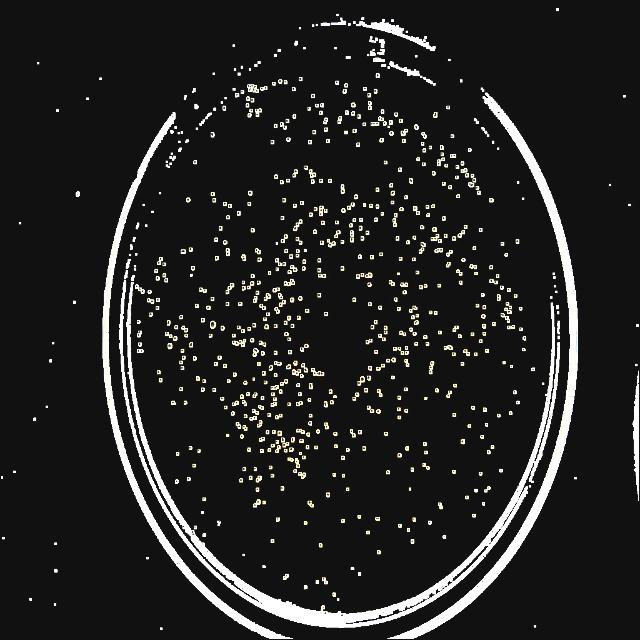colony: (206, 130, 218, 140), (274, 516, 288, 524), (209, 318, 219, 329), (270, 536, 276, 548), (154, 296, 162, 304), (166, 342, 174, 350), (184, 476, 192, 484), (207, 332, 215, 340), (198, 541, 208, 547), (213, 254, 220, 262), (185, 196, 191, 204), (247, 189, 253, 197), (224, 215, 232, 221), (180, 248, 188, 254), (140, 288, 146, 296), (154, 304, 160, 312), (180, 348, 186, 356), (165, 319, 171, 327), (188, 341, 194, 349), (192, 354, 198, 362), (200, 386, 206, 394), (196, 448, 202, 456), (175, 450, 181, 458), (200, 496, 208, 502), (200, 532, 208, 538), (261, 500, 269, 506), (278, 486, 286, 492), (253, 466, 259, 474), (255, 486, 261, 494), (260, 436, 268, 442), (307, 420, 313, 428), (323, 400, 329, 408), (308, 383, 314, 391), (256, 257, 264, 263), (390, 356, 396, 364), (472, 488, 480, 494), (460, 438, 466, 446), (428, 370, 436, 376), (412, 304, 420, 310), (285, 136, 291, 144), (467, 146, 473, 154), (438, 144, 446, 150), (246, 84, 252, 92), (433, 111, 439, 119), (192, 160, 198, 167), (170, 399, 176, 406), (178, 386, 185, 392), (277, 429, 283, 436), (250, 228, 256, 235), (419, 241, 426, 247), (408, 178, 414, 185), (340, 208, 346, 215), (460, 160, 466, 167), (218, 225, 224, 231), (222, 239, 228, 245), (225, 247, 231, 253), (225, 252, 231, 258), (188, 246, 194, 252), (158, 256, 164, 262), (162, 261, 168, 267), (164, 278, 170, 284), (146, 289, 152, 295), (135, 319, 141, 325), (136, 333, 142, 339), (140, 349, 146, 355), (172, 336, 178, 342), (222, 363, 228, 369), (201, 378, 207, 384), (218, 396, 224, 402), (188, 445, 194, 451), (174, 478, 180, 484), (302, 520, 308, 526), (314, 580, 320, 586), (321, 602, 327, 608), (318, 542, 324, 548), (325, 492, 331, 498), (255, 499, 261, 505), (239, 478, 245, 484), (242, 466, 248, 472), (256, 475, 262, 481), (259, 449, 265, 455), (246, 447, 252, 453), (258, 438, 264, 444), (270, 442, 276, 448), (290, 437, 296, 443), (298, 438, 304, 444), (306, 432, 312, 438), (226, 378, 232, 384), (242, 380, 248, 386), (273, 372, 279, 378), (268, 365, 274, 371), (220, 325, 226, 331), (224, 290, 230, 296), (228, 282, 234, 288), (264, 324, 270, 330), (286, 315, 292, 321), (296, 315, 302, 321), (304, 308, 310, 314), (286, 364, 292, 370), (292, 360, 298, 366), (266, 292, 272, 298), (284, 248, 290, 254), (292, 203, 298, 209), (292, 226, 298, 232), (280, 238, 286, 244), (298, 240, 304, 246), (334, 220, 340, 226), (348, 222, 354, 228), (367, 282, 373, 288), (398, 256, 404, 262), (396, 306, 402, 312), (377, 305, 383, 311), (360, 376, 366, 382), (390, 374, 396, 380), (383, 431, 389, 437), (356, 514, 362, 520), (365, 530, 371, 536), (410, 538, 416, 544), (406, 528, 412, 534), (397, 522, 403, 528), (411, 517, 417, 523), (498, 468, 504, 474), (404, 350, 410, 356), (448, 345, 454, 351), (484, 348, 490, 354), (521, 347, 527, 353), (530, 366, 536, 372), (518, 326, 524, 332), (454, 324, 460, 330), (500, 312, 506, 318), (518, 306, 524, 312), (480, 292, 486, 298), (512, 293, 518, 299), (488, 278, 494, 284), (488, 264, 494, 270), (458, 280, 464, 286), (413, 320, 419, 326), (468, 264, 474, 270), (460, 257, 466, 263), (446, 260, 452, 266), (472, 245, 478, 251), (514, 239, 520, 245), (468, 182, 474, 188), (454, 174, 460, 180), (441, 216, 447, 222), (431, 226, 437, 232), (420, 246, 426, 252), (412, 206, 418, 212), (399, 206, 405, 212), (392, 222, 398, 228), (390, 190, 396, 196), (368, 203, 374, 209), (362, 202, 368, 208), (374, 187, 380, 193), (388, 183, 394, 189), (350, 202, 356, 208), (307, 139, 313, 145), (343, 129, 349, 135), (355, 141, 361, 147), (361, 121, 367, 127), (379, 137, 385, 143), (388, 131, 394, 137), (397, 167, 403, 173), (450, 133, 456, 139), (234, 92, 240, 98), (246, 112, 252, 118), (291, 87, 297, 93), (298, 76, 304, 82), (310, 93, 316, 99), (306, 106, 312, 112), (318, 110, 324, 116), (322, 120, 328, 126), (344, 110, 350, 116), (350, 111, 356, 117), (388, 119, 394, 125), (398, 118, 404, 124), (400, 131, 406, 137), (413, 124, 419, 130), (366, 92, 372, 98), (362, 86, 368, 92), (342, 89, 348, 95), (334, 80, 340, 86), (212, 196, 216, 204), (228, 202, 232, 210), (183, 399, 187, 407), (210, 388, 218, 392), (265, 428, 269, 436), (252, 348, 260, 352), (202, 316, 206, 324), (316, 372, 324, 376), (312, 228, 316, 236), (354, 392, 362, 396), (340, 190, 348, 194), (190, 266, 197, 270), (211, 191, 215, 197), (222, 201, 226, 207), (236, 212, 242, 216), (247, 202, 253, 206), (214, 237, 218, 243), (156, 260, 160, 266), (154, 268, 158, 274), (156, 275, 160, 281), (162, 272, 166, 278), (134, 284, 138, 290), (138, 287, 142, 293), (150, 298, 154, 304), (148, 312, 154, 316), (137, 330, 143, 334), (157, 370, 161, 376), (159, 377, 163, 383), (179, 360, 183, 366), (181, 355, 185, 361), (169, 333, 173, 339), (174, 324, 178, 330), (179, 314, 183, 320), (184, 333, 188, 339), (216, 356, 222, 360), (234, 422, 240, 426), (237, 425, 241, 431), (240, 434, 244, 440), (252, 504, 258, 508), (284, 574, 290, 578), (324, 581, 328, 587), (332, 592, 336, 598), (340, 614, 346, 618), (341, 518, 345, 524), (309, 504, 315, 508), (248, 475, 252, 481), (256, 478, 260, 484), (268, 465, 272, 471), (270, 473, 274, 479), (272, 429, 276, 435), (275, 438, 279, 444), (266, 448, 272, 452), (274, 450, 280, 454), (277, 444, 281, 450), (282, 449, 288, 453), (290, 447, 294, 453), (298, 450, 302, 456), (306, 444, 310, 450), (308, 413, 312, 419), (362, 446, 366, 452), (330, 399, 334, 405), (332, 395, 338, 399), (328, 388, 332, 394), (286, 402, 292, 406), (268, 412, 272, 418), (254, 424, 260, 428), (249, 416, 253, 422), (252, 408, 256, 414), (255, 410, 259, 416), (260, 406, 266, 410), (260, 396, 266, 400), (296, 382, 300, 388), (240, 393, 244, 399), (235, 400, 239, 406), (233, 372, 237, 378), (262, 381, 268, 385), (256, 362, 262, 366), (277, 362, 283, 366), (274, 350, 278, 356), (261, 350, 265, 356), (258, 340, 262, 346), (262, 342, 266, 348), (242, 338, 246, 344), (250, 338, 254, 344), (247, 326, 251, 332), (252, 322, 256, 328), (210, 296, 214, 302), (224, 302, 230, 306), (199, 286, 203, 292), (203, 288, 207, 294), (241, 280, 245, 286), (242, 286, 246, 292), (250, 280, 254, 286), (257, 280, 261, 286), (250, 274, 256, 278), (255, 290, 259, 296), (284, 332, 290, 336), (287, 336, 291, 342), (283, 320, 287, 326), (282, 300, 286, 306), (298, 296, 302, 302), (292, 369, 296, 375), (276, 286, 280, 292), (240, 254, 246, 258), (256, 250, 262, 254), (282, 261, 286, 267), (268, 270, 272, 276), (290, 254, 294, 260), (282, 197, 286, 203), (308, 212, 314, 216), (298, 219, 304, 223), (295, 236, 299, 242), (302, 266, 306, 272), (322, 274, 328, 278), (320, 240, 324, 246), (314, 206, 318, 212), (318, 205, 324, 209), (324, 208, 328, 214), (322, 220, 326, 226), (336, 230, 342, 234), (334, 234, 340, 238), (328, 242, 332, 248), (340, 240, 346, 244), (350, 237, 354, 243), (366, 230, 370, 236), (360, 236, 364, 242), (358, 254, 362, 260), (356, 274, 360, 280), (360, 272, 364, 278), (368, 272, 372, 278), (370, 254, 374, 260), (380, 252, 384, 258), (396, 272, 402, 276), (400, 282, 404, 288), (404, 281, 408, 287), (412, 256, 416, 262), (394, 297, 398, 303), (352, 298, 358, 302), (373, 320, 379, 324), (366, 376, 372, 380), (351, 397, 357, 401), (376, 366, 380, 372), (380, 364, 386, 368), (404, 408, 408, 414), (405, 446, 409, 452), (398, 452, 402, 458), (386, 469, 390, 475), (332, 472, 336, 478), (345, 486, 349, 492), (374, 517, 380, 521), (377, 549, 381, 555), (428, 520, 432, 526), (442, 534, 446, 540), (472, 512, 476, 518), (464, 496, 470, 500), (482, 502, 486, 508), (486, 486, 492, 490), (422, 442, 428, 446), (480, 434, 484, 440), (490, 444, 494, 450), (508, 410, 512, 416), (512, 390, 518, 394), (485, 422, 489, 428), (435, 387, 439, 393), (446, 394, 450, 400), (429, 366, 435, 370), (400, 350, 404, 356), (399, 330, 403, 336), (408, 328, 414, 332), (412, 332, 418, 336), (413, 342, 419, 346), (422, 335, 428, 339), (438, 330, 442, 336), (452, 352, 456, 358), (460, 362, 466, 366), (466, 351, 470, 357), (511, 324, 515, 330), (492, 321, 496, 327), (479, 338, 483, 344), (482, 304, 486, 310), (504, 316, 510, 320), (506, 310, 512, 314), (509, 304, 513, 310), (504, 302, 510, 306), (434, 310, 438, 316), (428, 310, 434, 314), (411, 314, 415, 320), (409, 308, 413, 314), (419, 284, 423, 290), (436, 284, 442, 288), (474, 264, 478, 270), (489, 198, 495, 202), (477, 190, 481, 196), (455, 194, 461, 198), (448, 184, 452, 190), (464, 224, 468, 230), (460, 230, 466, 234), (458, 233, 462, 239), (452, 236, 456, 242), (442, 234, 448, 238), (430, 236, 434, 242), (434, 236, 438, 242), (438, 238, 442, 244), (446, 251, 450, 257), (440, 248, 444, 254), (434, 249, 438, 255), (418, 249, 422, 255), (396, 235, 400, 241), (420, 224, 424, 230), (426, 212, 430, 218), (404, 194, 408, 200), (394, 212, 398, 218), (392, 218, 398, 222), (380, 211, 384, 217), (390, 200, 394, 206), (376, 203, 380, 209), (354, 194, 358, 200), (346, 206, 352, 210), (328, 178, 332, 184), (319, 178, 323, 184), (312, 179, 316, 185), (313, 172, 317, 178), (309, 168, 313, 174), (294, 168, 298, 174), (286, 178, 290, 184), (274, 174, 278, 180), (270, 139, 274, 145), (312, 129, 316, 135), (326, 138, 330, 144), (324, 127, 328, 133), (352, 128, 356, 134), (402, 138, 406, 144), (416, 156, 420, 162), (432, 170, 436, 176), (456, 164, 460, 170), (460, 168, 464, 174), (465, 172, 469, 178), (222, 105, 226, 111), (246, 96, 250, 102), (251, 97, 255, 103), (246, 102, 250, 108), (248, 109, 254, 113), (260, 86, 264, 92), (277, 80, 283, 84), (284, 79, 288, 85), (292, 114, 296, 120), (286, 118, 290, 124), (280, 121, 284, 127), (282, 126, 288, 130), (320, 102, 324, 108), (357, 114, 361, 120), (375, 121, 379, 127), (378, 115, 382, 121), (394, 112, 398, 118), (404, 128, 408, 134), (445, 106, 451, 110), (380, 109, 384, 115), (352, 102, 356, 108), (374, 88, 378, 94), (344, 82, 348, 88), (438, 506, 444, 509), (147, 298, 151, 302), (138, 342, 142, 346), (136, 350, 140, 354), (180, 366, 184, 370), (165, 332, 169, 336), (184, 328, 188, 332), (214, 362, 218, 366), (196, 376, 200, 380), (224, 406, 228, 410), (226, 434, 230, 438), (242, 425, 246, 429), (192, 464, 196, 468), (194, 524, 198, 528), (321, 577, 325, 581), (323, 611, 327, 615), (307, 500, 311, 504), (282, 443, 286, 447), (286, 442, 290, 446), (281, 438, 285, 442), (302, 456, 306, 460), (286, 457, 290, 461), (290, 458, 294, 462), (298, 472, 302, 476), (302, 472, 306, 476), (314, 446, 318, 450), (316, 430, 320, 434), (324, 422, 328, 426), (325, 426, 329, 430), (334, 432, 338, 436), (334, 445, 338, 449), (341, 456, 345, 460), (352, 434, 356, 438), (358, 430, 362, 434), (308, 398, 312, 402), (296, 402, 300, 406), (298, 392, 302, 396), (278, 414, 282, 418), (275, 416, 279, 420), (258, 420, 262, 424), (253, 416, 257, 420), (244, 414, 248, 418), (273, 397, 277, 401), (271, 392, 275, 396), (279, 390, 283, 394), (274, 385, 278, 389), (280, 382, 284, 386), (284, 380, 288, 384), (243, 403, 247, 407), (246, 392, 250, 396), (254, 392, 258, 396), (232, 402, 236, 406), (262, 372, 266, 376), (252, 353, 256, 357), (232, 334, 236, 338), (238, 340, 242, 344), (241, 343, 245, 347), (241, 329, 245, 333), (237, 325, 241, 329), (195, 304, 199, 308), (206, 306, 210, 310), (238, 302, 242, 306), (190, 273, 194, 277), (227, 286, 231, 290), (247, 286, 251, 290), (253, 296, 257, 300), (253, 299, 257, 303), (259, 304, 263, 308), (262, 306, 266, 310), (266, 312, 270, 316), (274, 324, 278, 328), (291, 324, 295, 328), (273, 307, 277, 311), (276, 310, 280, 314), (278, 302, 282, 306), (290, 298, 294, 302), (317, 293, 321, 297), (325, 312, 329, 316), (304, 344, 308, 348), (300, 348, 304, 352), (288, 350, 292, 354), (300, 374, 304, 378), (304, 368, 308, 372), (301, 363, 305, 367), (311, 367, 315, 371), (263, 297, 267, 301), (272, 288, 276, 292), (292, 281, 296, 285), (289, 279, 293, 283), (288, 270, 292, 274), (242, 258, 246, 262), (254, 248, 258, 252), (274, 258, 278, 262), (278, 262, 282, 266), (275, 268, 279, 272), (294, 268, 298, 272), (290, 265, 294, 269), (281, 216, 285, 220), (300, 201, 304, 205), (295, 222, 299, 226), (284, 234, 288, 238), (296, 249, 300, 253), (296, 254, 300, 258), (303, 248, 307, 252), (302, 260, 306, 264), (317, 258, 321, 262), (317, 268, 321, 272), (318, 274, 322, 278), (319, 209, 323, 213), (319, 213, 323, 217), (332, 242, 336, 246), (352, 218, 356, 222), (359, 218, 363, 222), (358, 226, 362, 230), (340, 266, 344, 270), (388, 280, 392, 284), (391, 282, 395, 286), (416, 270, 420, 274), (402, 290, 406, 294), (368, 302, 372, 306), (371, 326, 375, 330), (378, 334, 382, 338), (382, 338, 386, 342), (384, 331, 388, 335), (384, 326, 388, 330), (365, 340, 369, 344), (368, 338, 372, 342), (374, 350, 378, 354), (368, 366, 372, 370), (364, 388, 368, 392), (366, 406, 370, 410), (376, 410, 380, 414), (377, 389, 381, 393), (386, 359, 390, 363), (404, 388, 408, 392), (397, 396, 401, 400), (397, 408, 401, 412), (398, 416, 402, 420), (410, 468, 414, 472), (358, 572, 362, 576), (438, 502, 442, 506), (484, 490, 488, 494), (478, 472, 482, 476), (452, 470, 456, 474), (426, 466, 430, 470), (422, 463, 426, 467), (424, 450, 428, 454), (487, 450, 491, 454), (516, 401, 520, 405), (496, 414, 500, 418), (483, 408, 487, 412), (471, 406, 475, 410), (467, 424, 471, 428), (452, 413, 456, 417), (448, 390, 452, 394), (453, 384, 457, 388), (430, 361, 434, 365), (406, 363, 410, 367), (404, 358, 408, 362), (404, 346, 408, 350), (393, 347, 397, 351), (402, 332, 406, 336), (425, 342, 429, 346), (444, 346, 448, 350), (463, 349, 467, 353), (474, 352, 478, 356), (502, 361, 506, 365), (510, 364, 514, 368), (541, 382, 545, 386), (522, 336, 526, 340), (507, 326, 511, 330), (482, 324, 486, 328), (482, 332, 486, 336), (470, 332, 474, 336), (458, 334, 462, 338), (452, 328, 456, 332), (476, 304, 480, 308), (506, 319, 510, 323), (504, 307, 508, 311), (496, 298, 500, 302), (496, 293, 500, 297), (507, 288, 511, 292), (500, 286, 504, 290), (494, 281, 498, 285), (474, 272, 478, 276), (415, 314, 419, 318), (424, 284, 428, 288), (456, 269, 460, 273), (459, 272, 463, 276), (446, 264, 450, 268), (504, 253, 508, 257), (500, 242, 504, 246), (475, 186, 479, 190), (471, 174, 475, 178), (472, 178, 476, 182), (442, 182, 446, 186), (479, 228, 483, 232), (436, 234, 440, 238), (449, 250, 453, 254), (436, 248, 440, 252), (412, 236, 416, 240), (406, 240, 410, 244), (431, 204, 435, 208), (425, 205, 429, 209), (416, 211, 420, 215), (374, 218, 378, 222), (340, 184, 344, 188), (310, 174, 314, 178), (304, 166, 308, 170), (292, 174, 296, 178), (280, 180, 284, 184), (384, 160, 388, 164), (422, 163, 426, 167), (444, 164, 448, 168), (464, 168, 468, 172), (440, 152, 444, 156), (441, 158, 445, 162), (240, 90, 244, 94), (255, 113, 259, 117), (258, 108, 262, 112), (255, 89, 259, 93), (264, 86, 268, 90), (272, 82, 276, 86), (274, 124, 278, 128), (315, 104, 319, 108), (324, 117, 328, 121), (338, 116, 342, 120), (337, 120, 341, 124), (372, 122, 376, 126), (380, 117, 384, 121), (383, 122, 387, 126), (421, 142, 425, 146), (422, 148, 426, 152), (428, 146, 432, 150), (453, 154, 457, 158), (368, 106, 372, 110), (368, 101, 372, 105), (376, 74, 380, 78), (421, 132, 425, 136), (423, 134, 427, 138), (437, 163, 441, 167), (245, 428, 248, 432), (192, 532, 194, 538), (284, 576, 286, 582), (302, 431, 306, 434), (296, 430, 302, 432), (346, 448, 349, 452), (298, 402, 304, 404), (270, 386, 274, 389), (252, 394, 255, 398), (252, 377, 255, 381), (326, 238, 329, 242), (366, 274, 368, 280), (358, 380, 360, 386), (371, 409, 374, 413), (496, 274, 499, 278), (255, 108, 258, 112), (253, 88, 255, 94), (182, 326, 184, 330), (232, 412, 234, 416), (190, 531, 194, 533), (296, 466, 300, 468), (293, 470, 297, 472), (350, 429, 352, 433), (258, 424, 262, 426), (258, 405, 260, 409), (270, 404, 274, 406), (274, 402, 276, 406), (274, 361, 276, 365), (232, 341, 234, 345), (236, 342, 238, 346), (296, 372, 298, 376), (278, 293, 280, 297), (288, 282, 290, 286), (284, 281, 286, 285), (350, 234, 354, 236), (349, 230, 353, 232), (378, 394, 382, 396), (342, 473, 344, 477), (350, 568, 354, 570), (398, 348, 402, 350), (254, 84, 256, 88), (371, 122, 373, 126), (450, 154, 452, 158), (437, 160, 441, 162), (296, 461, 298, 464), (242, 400, 245, 402), (295, 458, 297, 460), (302, 476, 304, 478), (264, 318, 266, 320), (298, 370, 300, 372), (314, 372, 316, 374), (280, 296, 282, 298)
